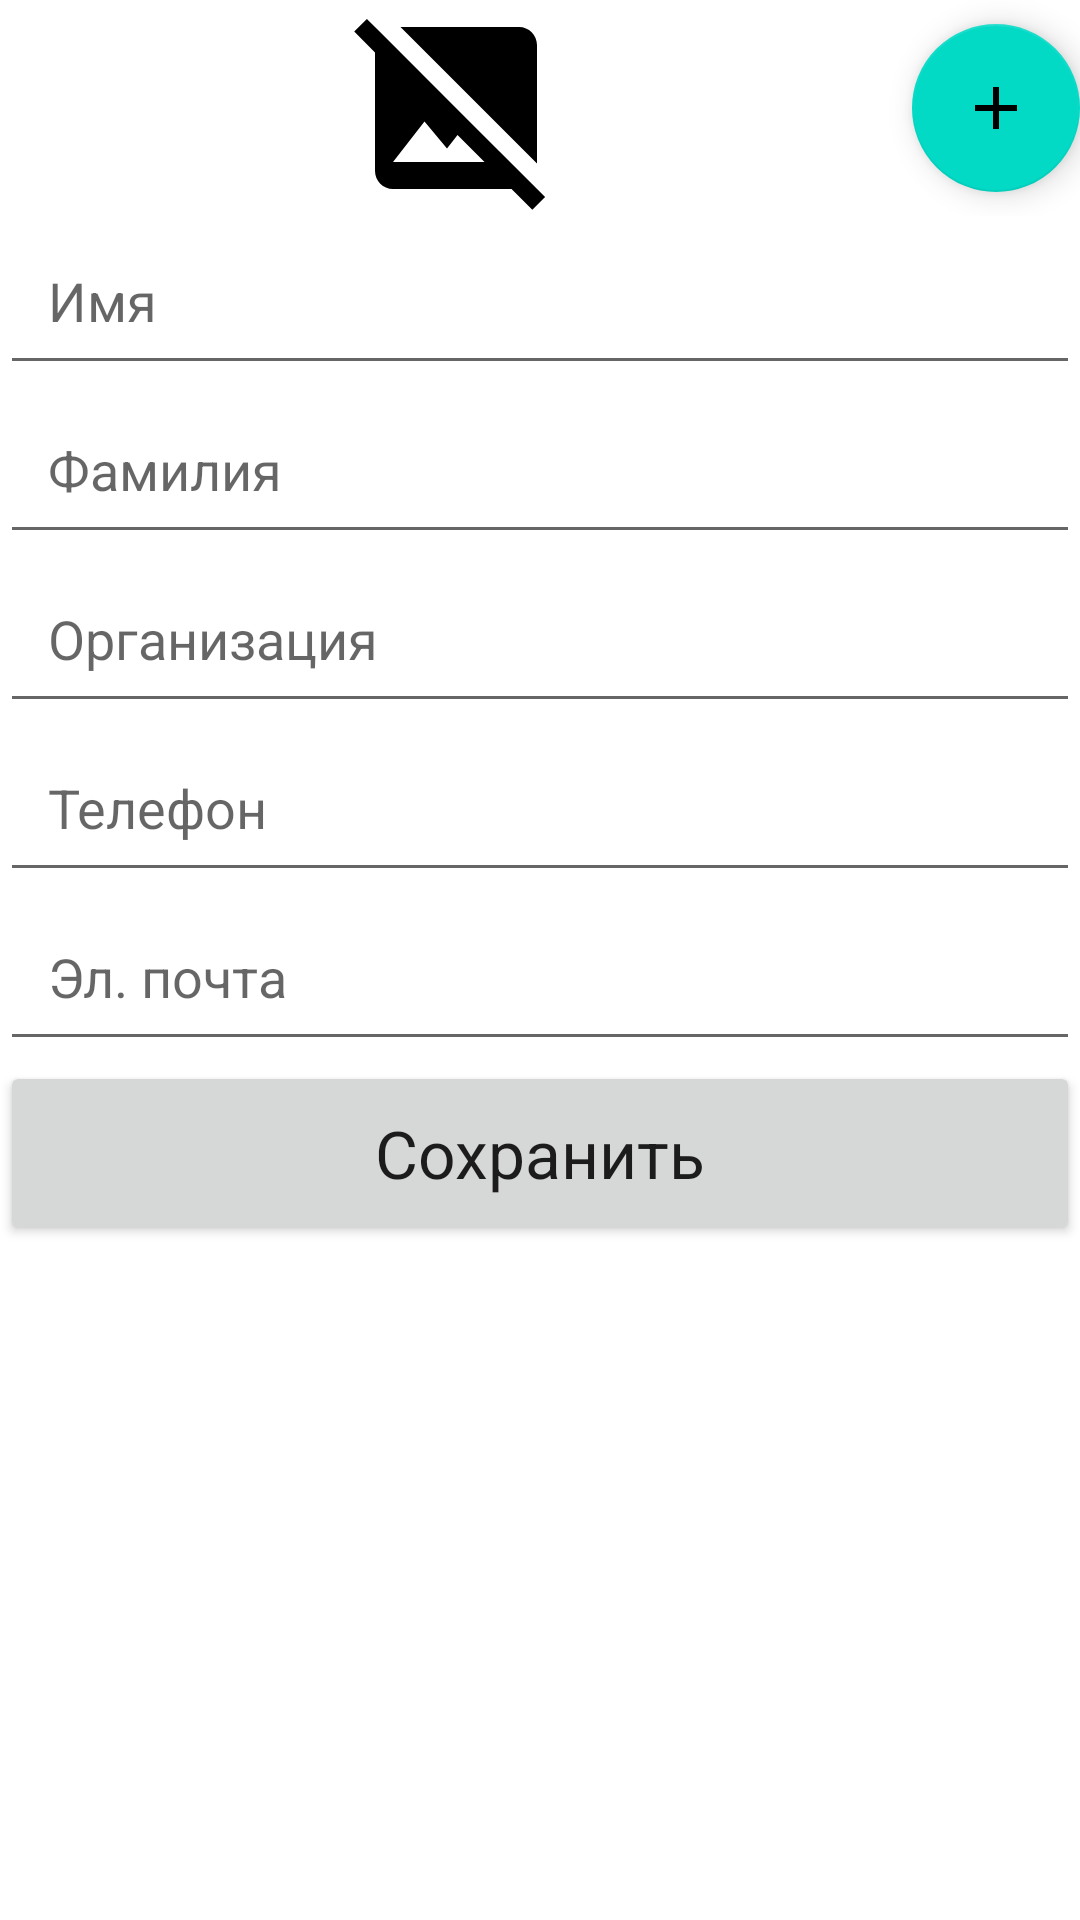

Icons on this 1080px×1920px Android screen, each with its box as rect(x1, y1, x2, y2):
Добавить: rect(912, 24, 1080, 192)
